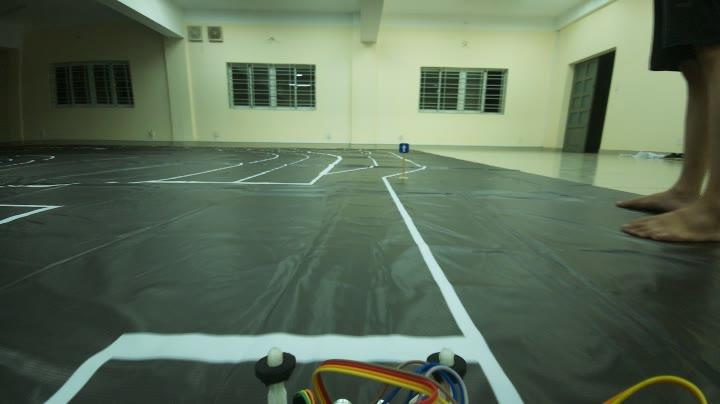onewayroad: (396, 138, 414, 156)
